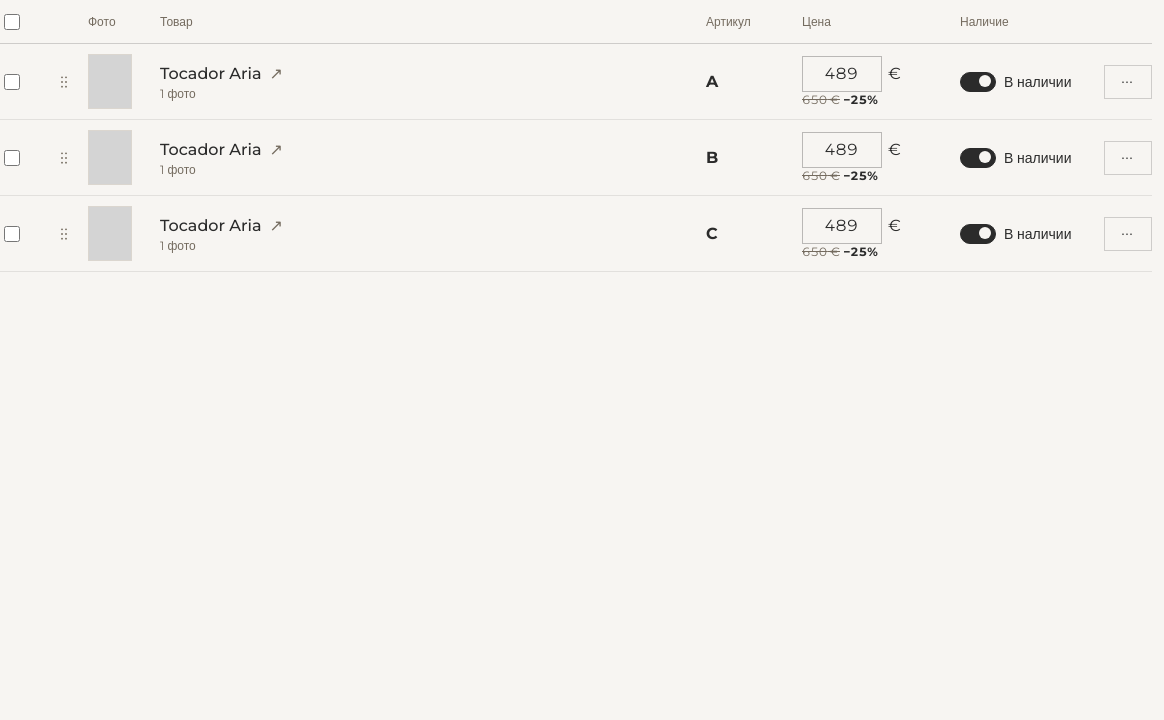
ProductList — order › cannot move the first product further up
Click the button named "Действия с товаром A" at (1128, 82), box left=1104, top=64, right=1152, bottom=98
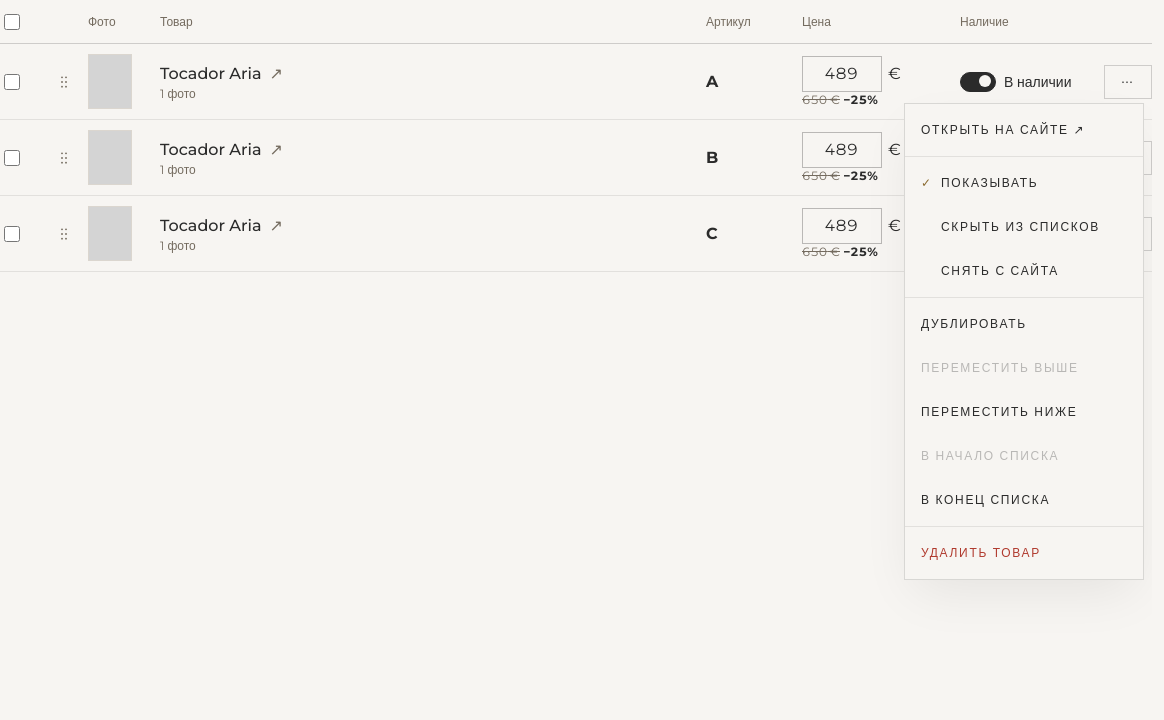
Check: the menu item "Переместить выше" is disabled, box left=905, top=346, right=1143, bottom=390
